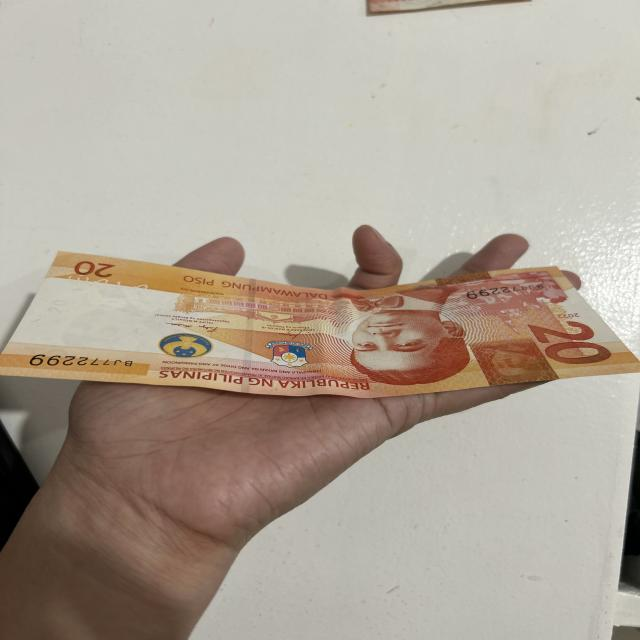concealed_value: (477, 338, 561, 388)
security_thread: (230, 279, 269, 394)
see_through_mark: (46, 267, 161, 296)
serial_number: (31, 349, 152, 372), (466, 279, 560, 306)
value: (529, 313, 623, 375)
value_watermark: (44, 288, 75, 317)
